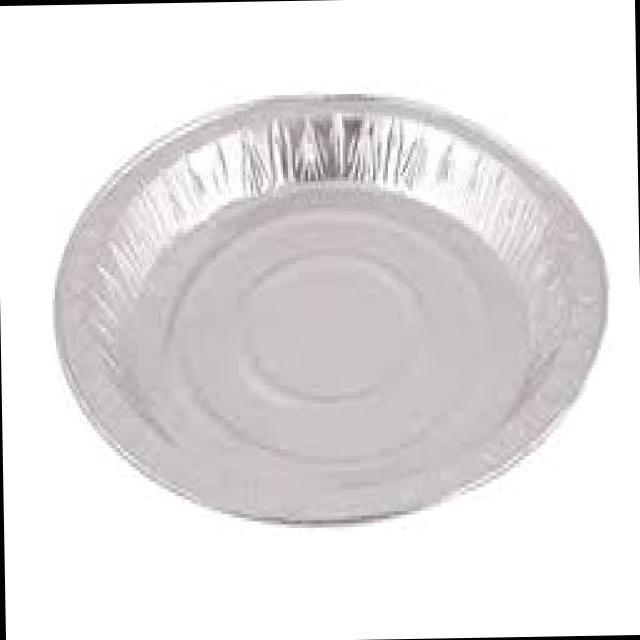kim_loai: (50, 91, 610, 531)
